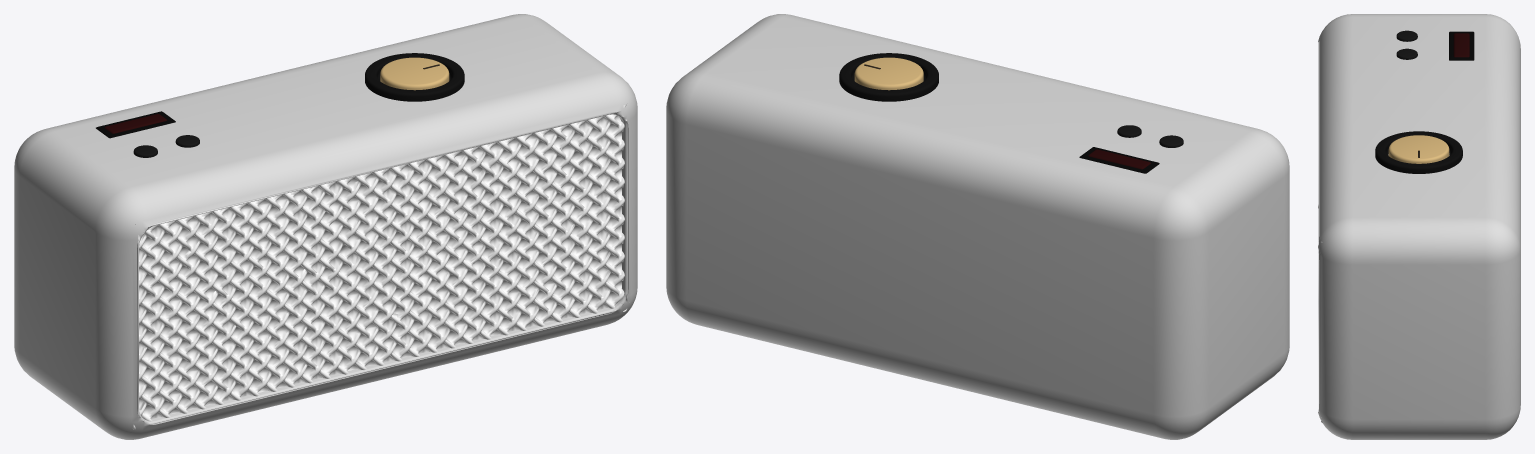
The picture shows the model from 3 angles, left to right: view 1: azimuth 30°, elevation 25°; view 2: azimuth 150°, elevation 25°; view 3: azimuth 270°, elevation 25°; orthographic projection. The views are drawn at different scales.
Parts seen in each view (by area): view 1: body, grille, bezel, knob; view 2: body, bezel, knob; view 3: body, bezel, knob, redrim, red, btn1, btn0.
Part boxes in pixels (<box>): body: <box>14,14,637,439</box>; grille: <box>133,104,629,429</box>; bezel: <box>365,53,464,101</box>; knob: <box>380,57,449,90</box>; body: <box>666,14,1289,439</box>; bezel: <box>839,53,938,101</box>; knob: <box>854,57,923,90</box>; body: <box>1318,14,1520,439</box>; bezel: <box>1375,131,1462,173</box>; knob: <box>1388,135,1449,163</box>; redrim: <box>1449,31,1474,60</box>; red: <box>1453,33,1469,57</box>; btn1: <box>1396,48,1417,59</box>; btn0: <box>1396,30,1417,41</box>.
Bounding box in the file's own units: 2.3 × 1.06 × 0.8561.
